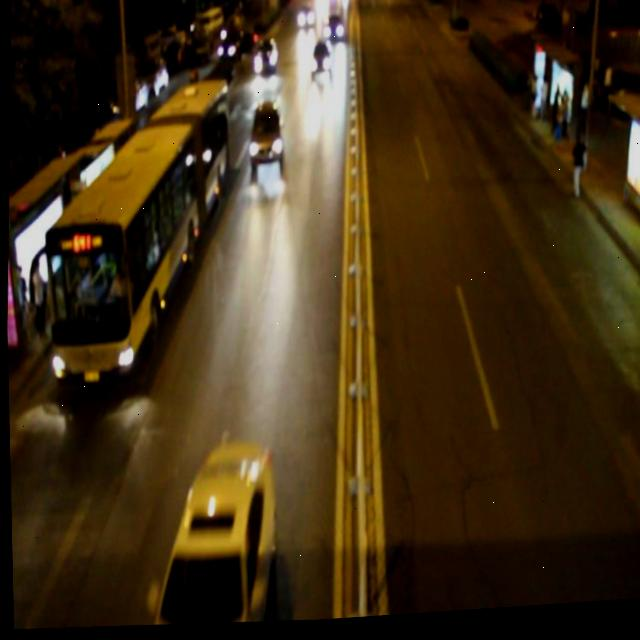car: (146, 435, 276, 631), (250, 36, 278, 79), (307, 41, 331, 81), (322, 15, 345, 50)
truck: (246, 103, 285, 167)
van: (34, 71, 229, 385)
